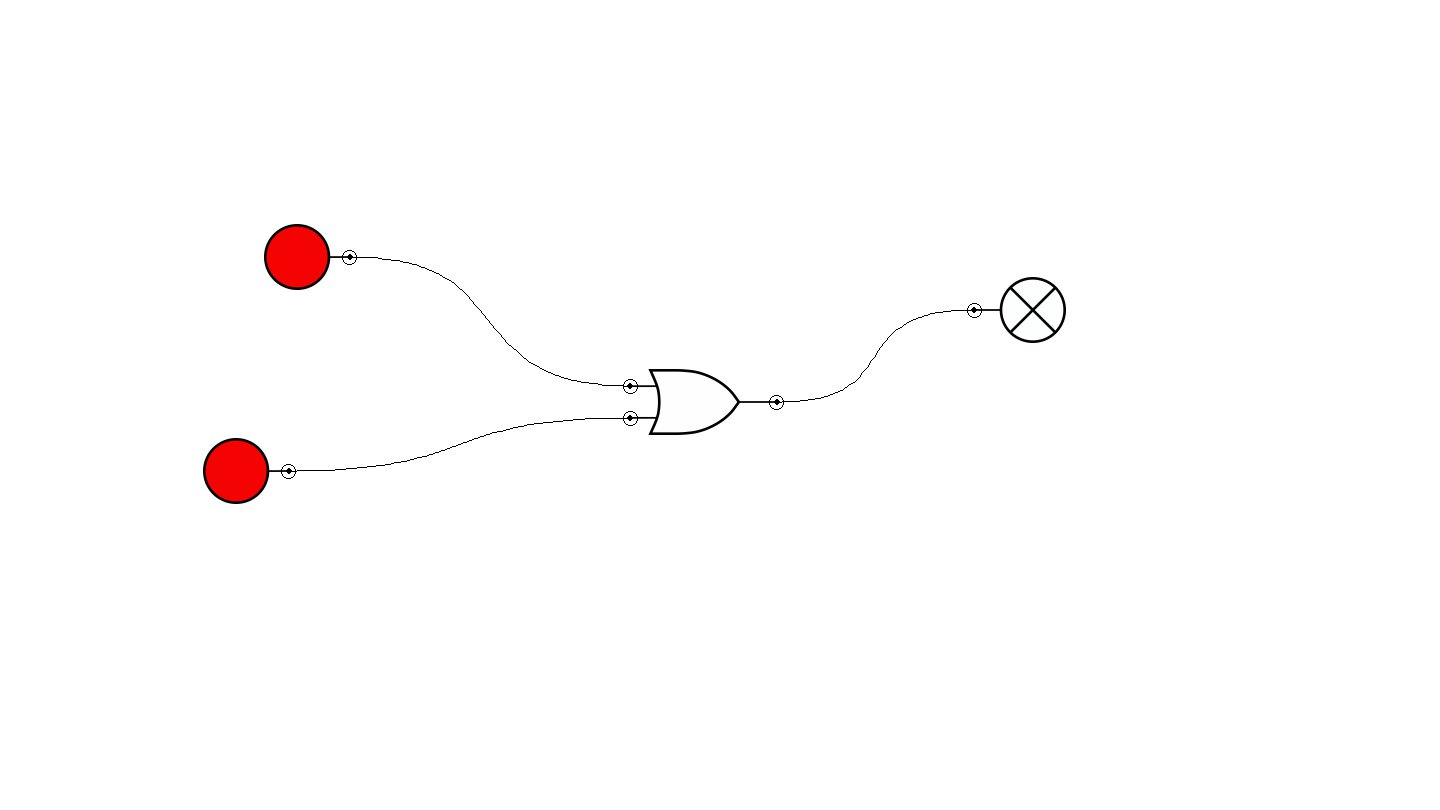bulb: (967, 277, 1066, 343)
or: (623, 369, 784, 435)
switch_False: (203, 438, 296, 504), (264, 224, 357, 290)
